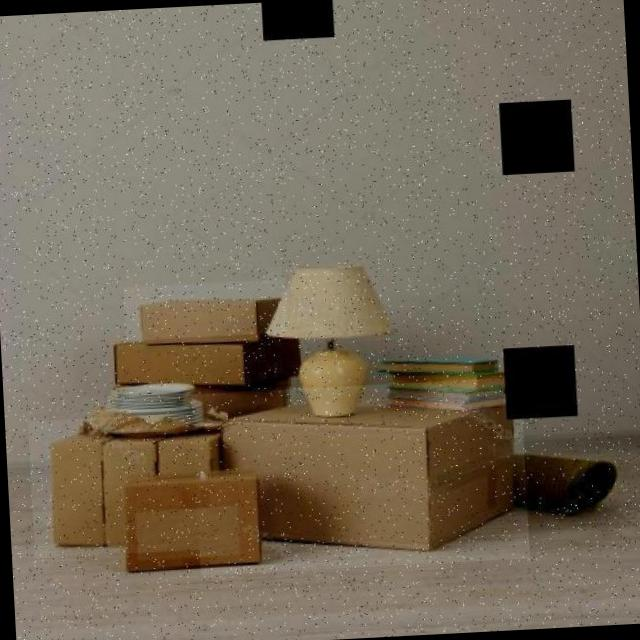box: (192, 378, 530, 576), (28, 412, 229, 558), (72, 332, 304, 398), (123, 280, 288, 356), (266, 267, 284, 298)
